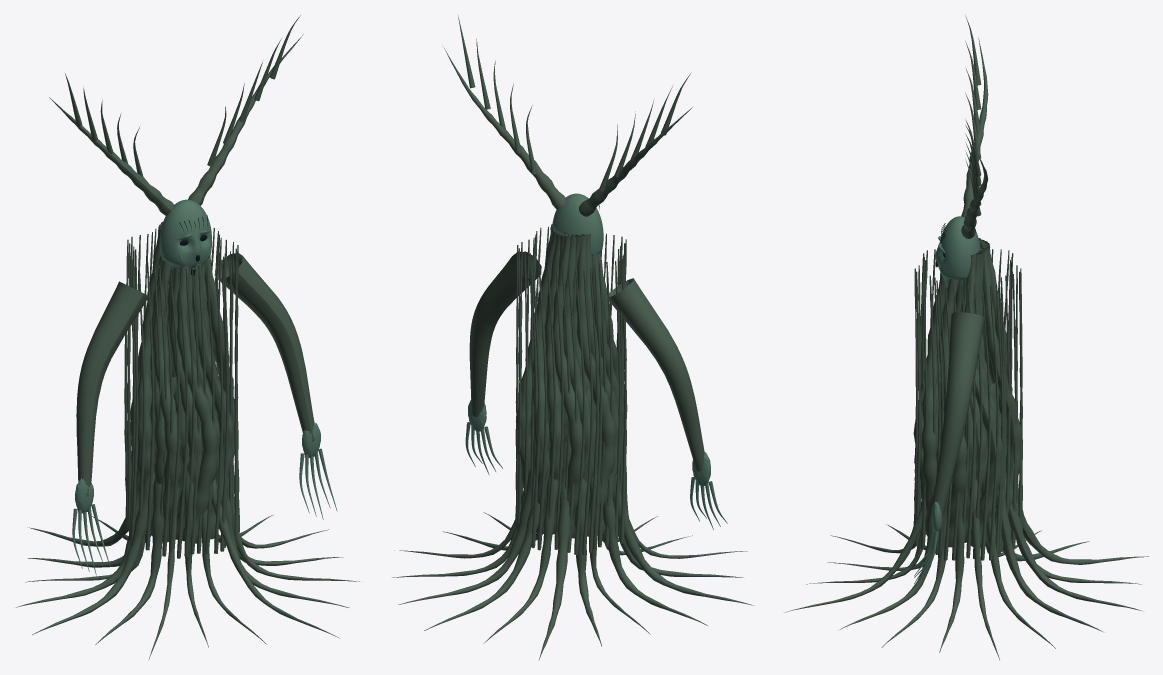
File: 02-the-hollow-oak.glb
The picture shows the model from 3 angles, left to right: view 1: azimuth 30°, elevation 25°; view 2: azimuth 150°, elevation 25°; view 3: azimuth 270°, elevation 25°; orthographic projection. The views are drawn at different scales.
Parts seen in each view (by area): view 1: sculpt (×4); view 2: sculpt (×4); view 3: sculpt (×3).
Part boxes in pixels (<box>): sculpt (×4): <box>16,15,359,660</box>; sculpt (×4): <box>392,15,754,660</box>; sculpt (×3): <box>784,15,1148,660</box>.
Size of the model in its own units: 3.5 by 5.46 by 3.51.
